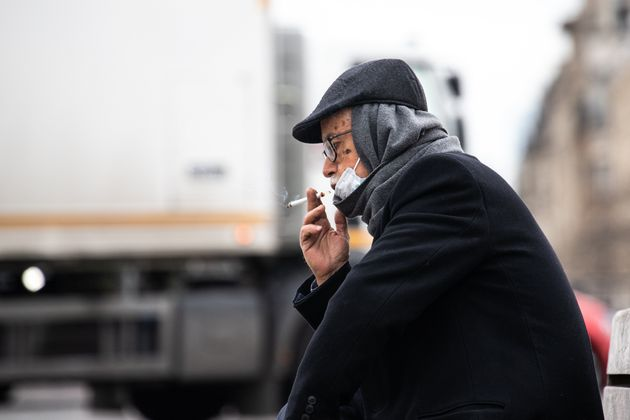with_incorrect_mask: (314, 127, 370, 209)
